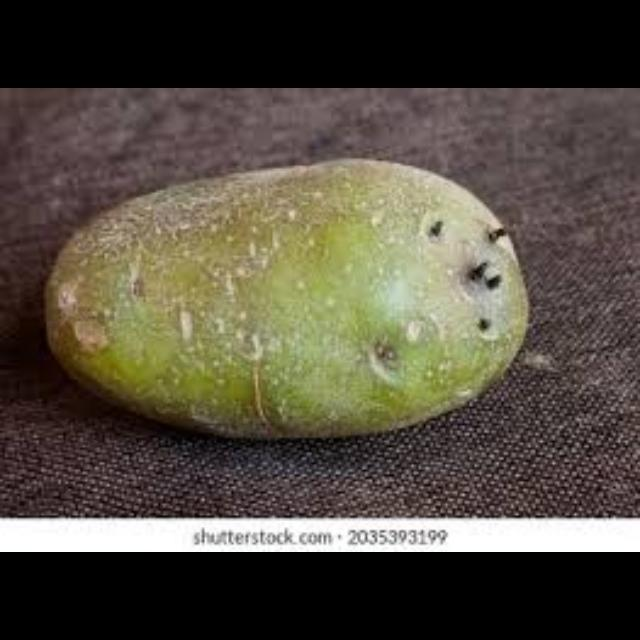Defected potato: (41, 148, 530, 454)
